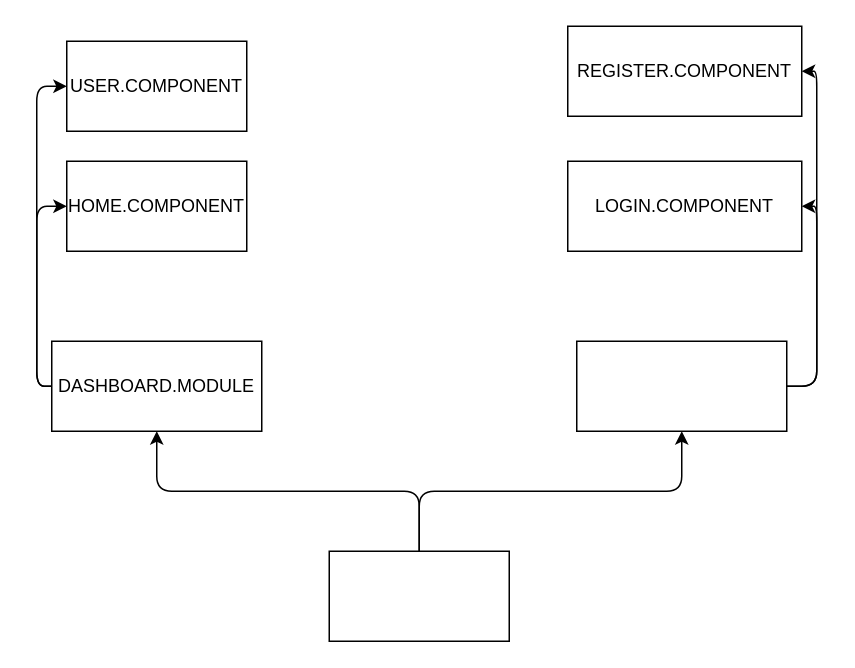
Image size: 855x668. Some labels were removed from this diagram. Each missing label, with the centre of its shape:
"APP.MODULE" belongs at (x=418, y=595).
"AUTH.MODULE" belongs at (x=681, y=385).
